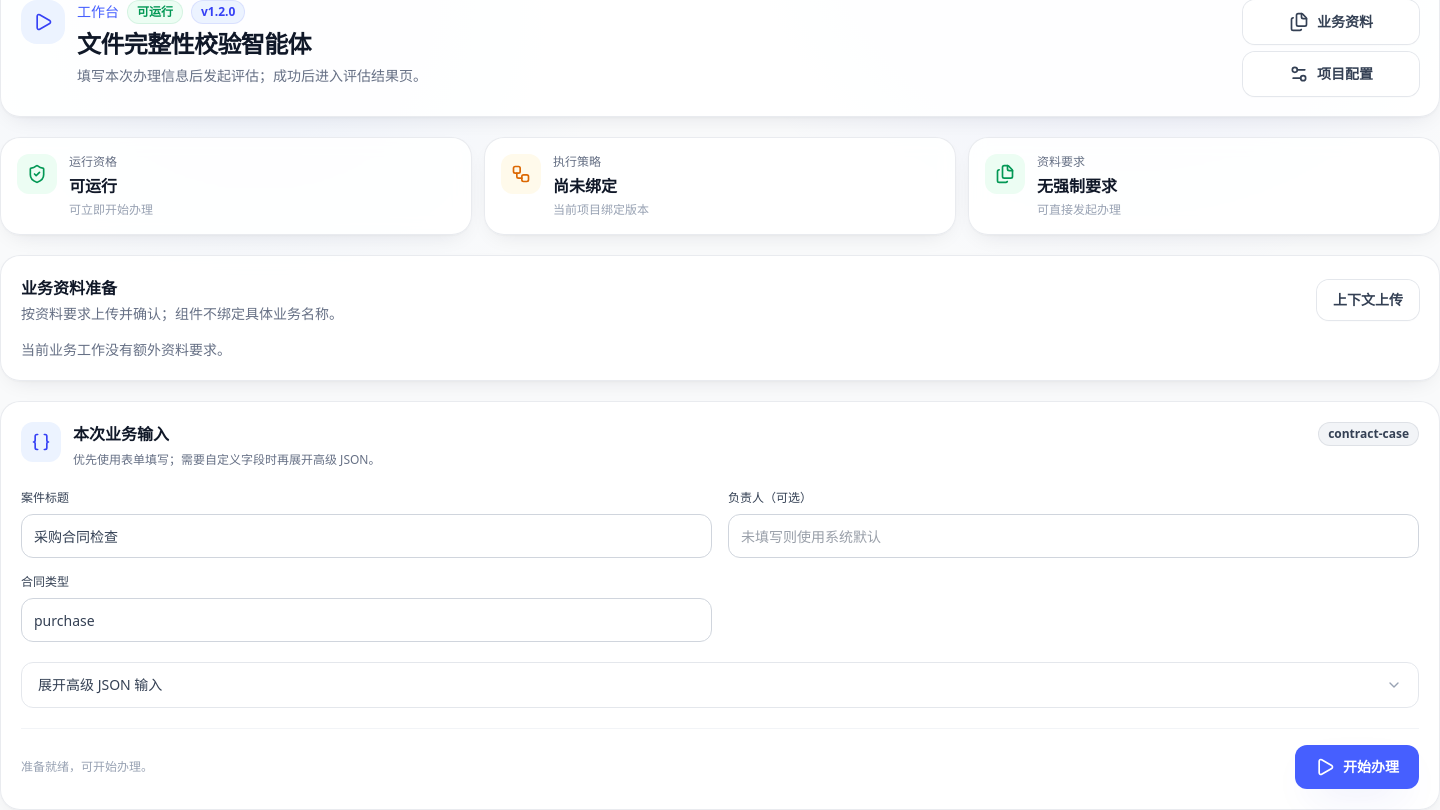
Test case: business work workbench › surfaces schema validation details instead of a generic incomplete message
(page scrolled)
Expected: the heading "文件完整性校验智能体" is shown, x1=77 y1=27 x2=311 y2=60
Click the button "开始办理". click: (1357, 767)
box: x1=1295 y1=745 x2=1419 y2=789
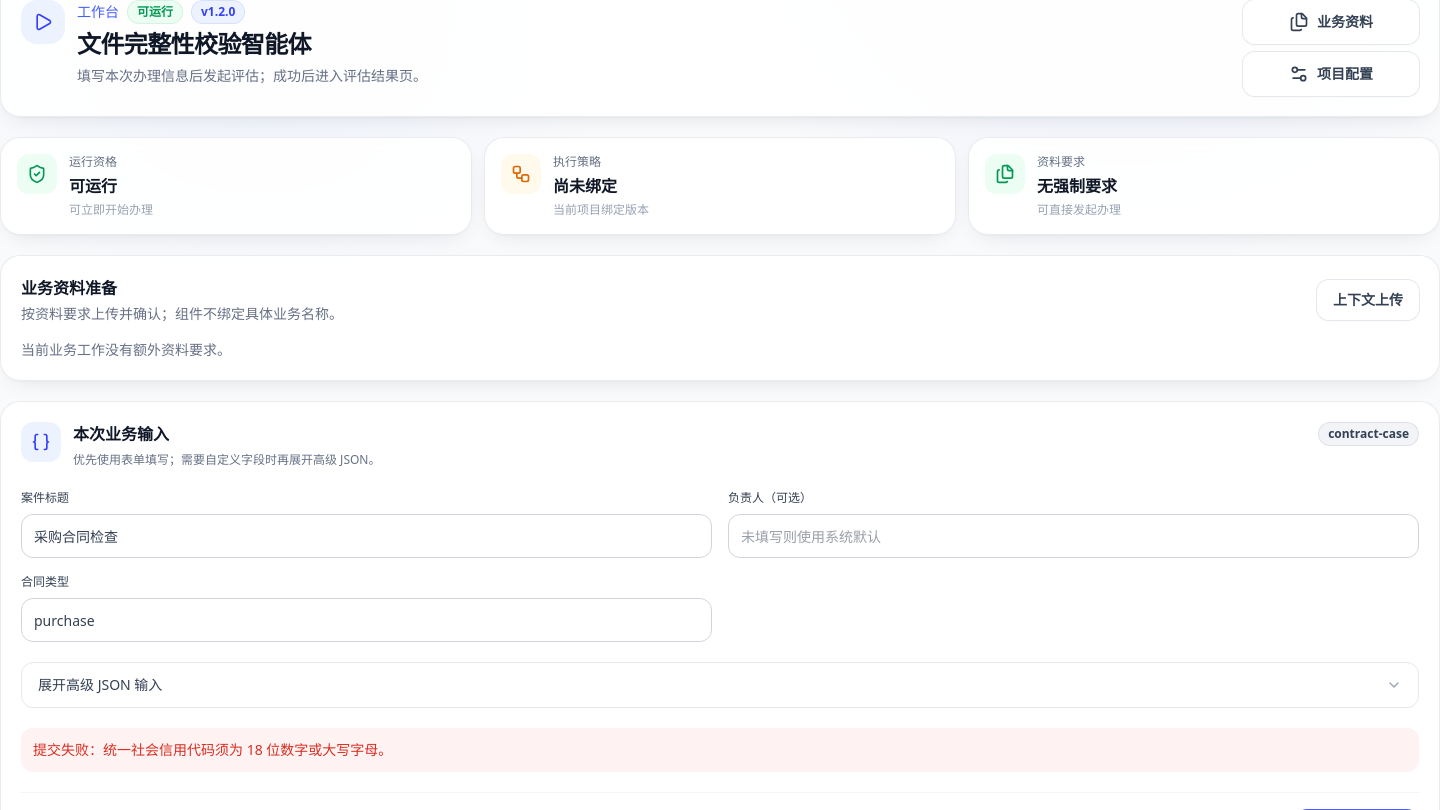
Result: the message reads "提交失败：统一社会信用代码须为 18 位数字或大写字母。" at x1=21 y1=728 x2=1419 y2=772
